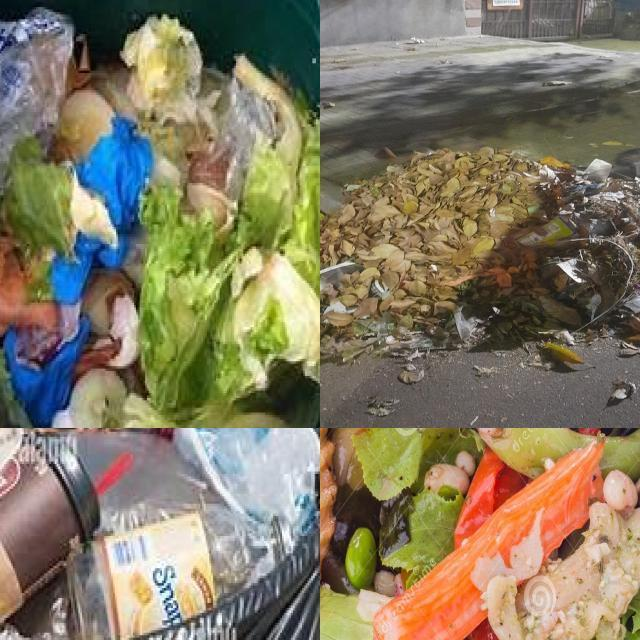Disposable: (0, 438, 100, 622), (586, 293, 602, 321)
Garbage: (320, 147, 640, 367), (0, 428, 320, 640), (320, 428, 640, 640)
Glass_bottle: (67, 497, 287, 640)
Plastic_Bag: (197, 428, 320, 534), (455, 307, 477, 341), (584, 158, 611, 183)
Plastic_bottle: (76, 432, 206, 532)
Plastic_wraper: (517, 217, 575, 246)
